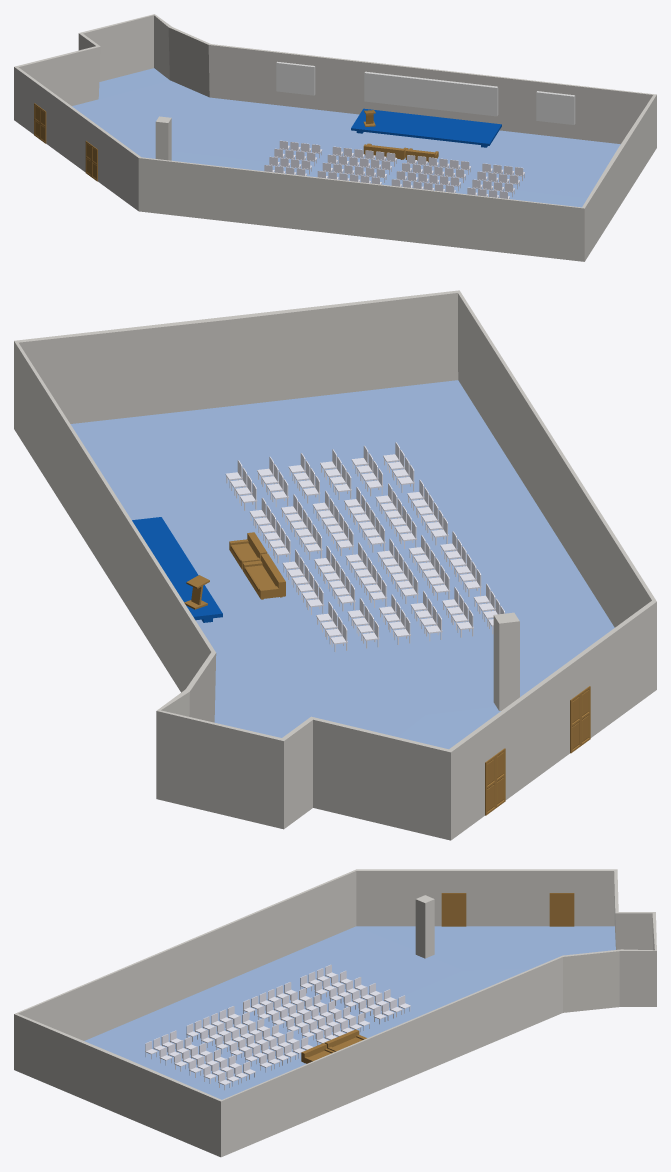
The model's file is audit.fbx.
3 views of the same model, one above another, from view 1: azimuth 30°, elevation 25°; view 2: azimuth 150°, elevation 25°; view 3: azimuth 270°, elevation 25° (orthographic). The views are drawn at different scales.
Visible parts, largest first — view 1: audit, ledLayar, panggung, kursi, kursi.001, kursi.002, kursi.003, ledLayar.001, ledLayar.002, tiang, pintu, pintu.001 (+1 smaller); view 2: audit, kursi.001, kursi, kursi.002, kursi.003, panggung, tiang, sofa, pintu, pintu.001, sofa.001; view 3: audit, kursi.001, kursi, kursi.002, kursi.003, tiang, pintu, pintu.001, sofa.
Boxes of the visible parts, x1=… form: audit: x1=14, y1=14, x2=656, y2=261; ledLayar: x1=364, y1=71, x2=498, y2=116; panggung: x1=351, y1=108, x2=501, y2=147; kursi: x1=317, y1=146, x2=397, y2=184; kursi.001: x1=391, y1=155, x2=471, y2=192; kursi.002: x1=467, y1=163, x2=525, y2=198; kursi.003: x1=264, y1=140, x2=322, y2=175; ledLayar.001: x1=536, y1=91, x2=575, y2=124; ledLayar.002: x1=276, y1=61, x2=315, y2=95; tiang: x1=155, y1=116, x2=171, y2=160; pintu: x1=85, y1=141, x2=97, y2=181; pintu.001: x1=34, y1=103, x2=46, y2=143; audit: x1=14, y1=290, x2=656, y2=840; kursi.001: x1=249, y1=479, x2=448, y2=563; kursi: x1=282, y1=531, x2=481, y2=614; kursi.002: x1=225, y1=442, x2=414, y2=510; kursi.003: x1=316, y1=583, x2=504, y2=652; panggung: x1=132, y1=517, x2=222, y2=622; tiang: x1=493, y1=612, x2=519, y2=710; sofa: x1=242, y1=553, x2=285, y2=599; pintu: x1=570, y1=686, x2=590, y2=753; pintu.001: x1=485, y1=748, x2=505, y2=815; sofa.001: x1=229, y1=532, x2=267, y2=569; audit: x1=14, y1=869, x2=656, y2=1157; kursi.001: x1=186, y1=1006, x2=313, y2=1072; kursi: x1=243, y1=982, x2=370, y2=1045; kursi.002: x1=145, y1=1030, x2=255, y2=1090; kursi.003: x1=300, y1=964, x2=410, y2=1024; tiang: x1=415, y1=895, x2=434, y2=958; pintu: x1=441, y1=893, x2=466, y2=926; pintu.001: x1=549, y1=893, x2=574, y2=926; sofa: x1=324, y1=1029, x2=366, y2=1051.
Size of the model in its own units: 267 by 30.16 by 312.
